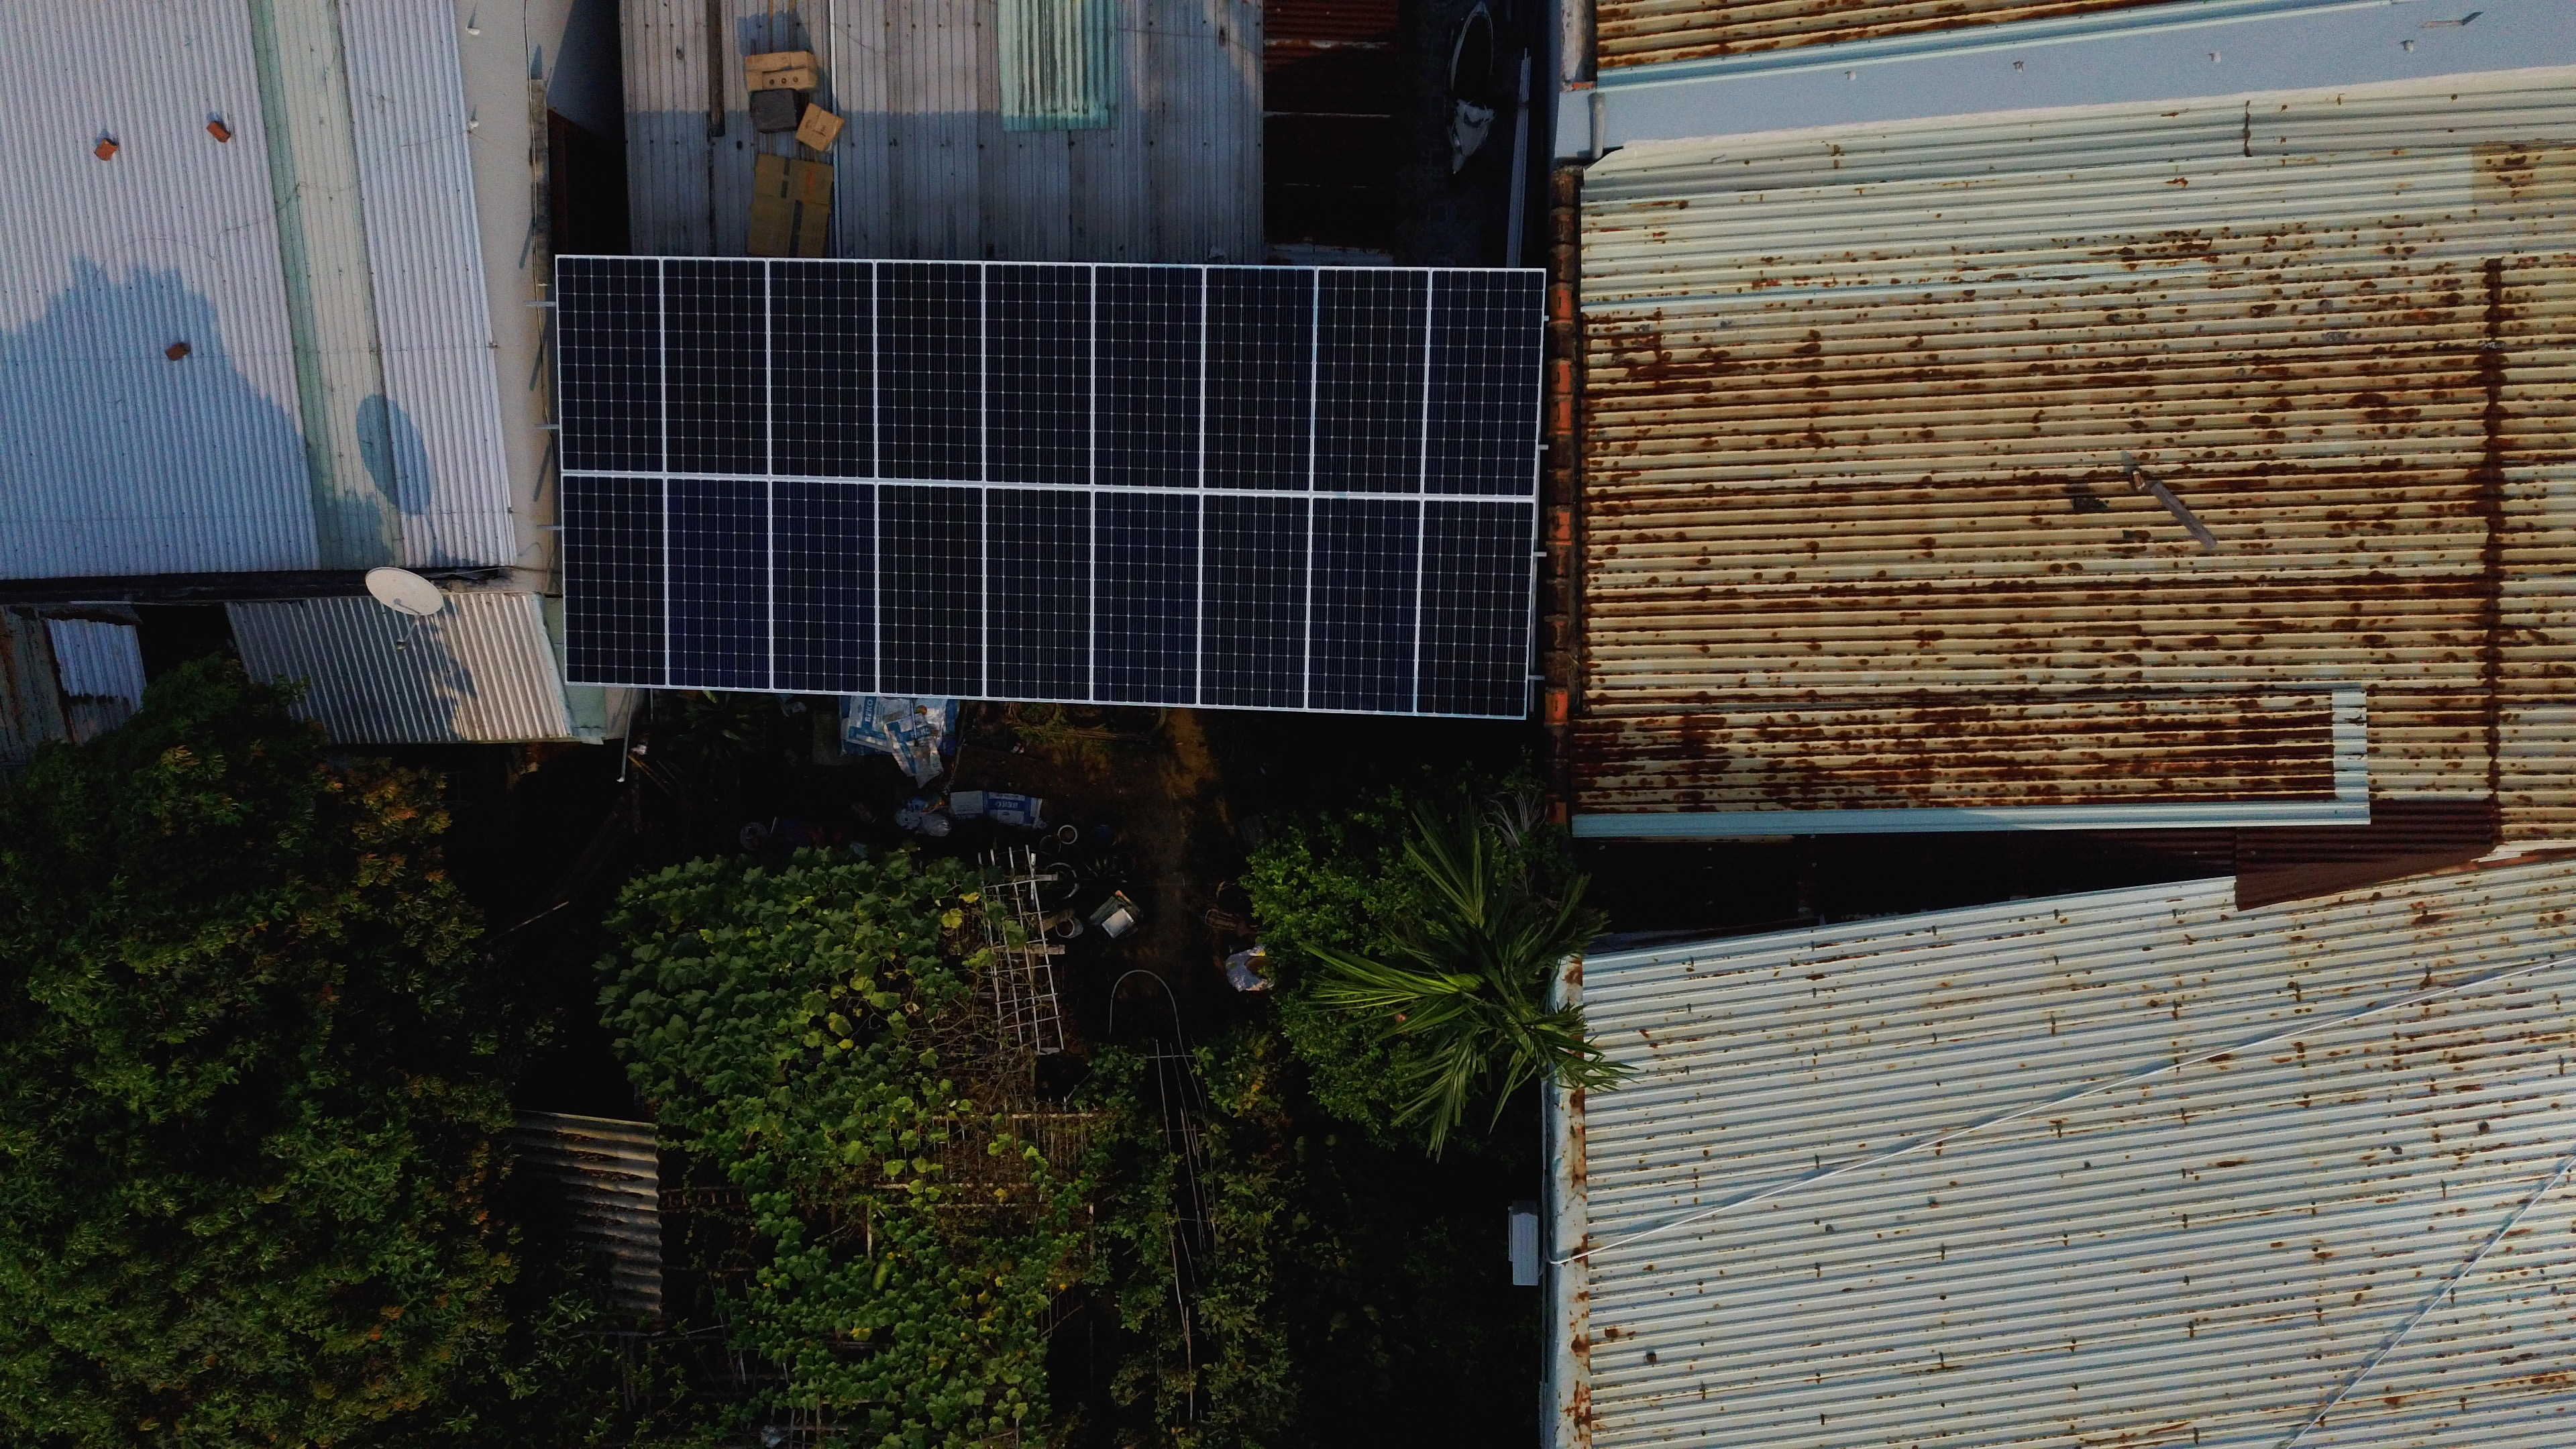solar: (1313, 265, 1431, 488), (1417, 495, 1536, 717), (1426, 274, 1541, 494), (1235, 272, 1348, 492), (1307, 494, 1419, 713), (557, 253, 663, 476), (775, 255, 881, 478), (1099, 265, 1205, 488), (886, 258, 991, 483), (1000, 264, 1104, 487), (559, 474, 667, 688), (665, 472, 771, 686), (878, 483, 984, 697), (989, 485, 1095, 699), (1095, 488, 1201, 702), (1201, 494, 1307, 708), (773, 479, 879, 692), (667, 257, 770, 472)
